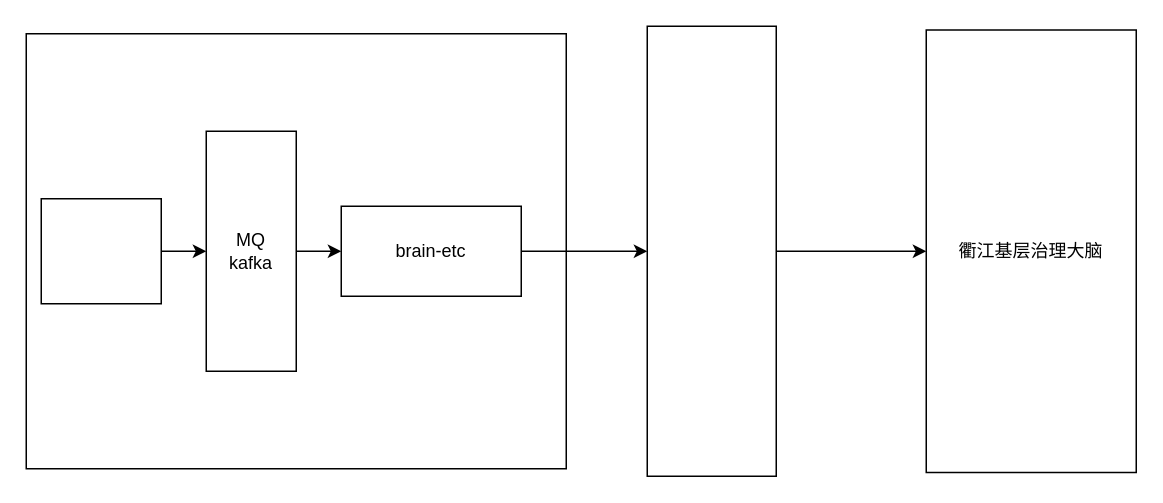
Image size: 1163x503. Some labels were removed from this diagram. Each missing label, with the centre of its shape:
"etc实际数据" belongs at (100,250).
"网闸 webservice" belongs at (711,250).
